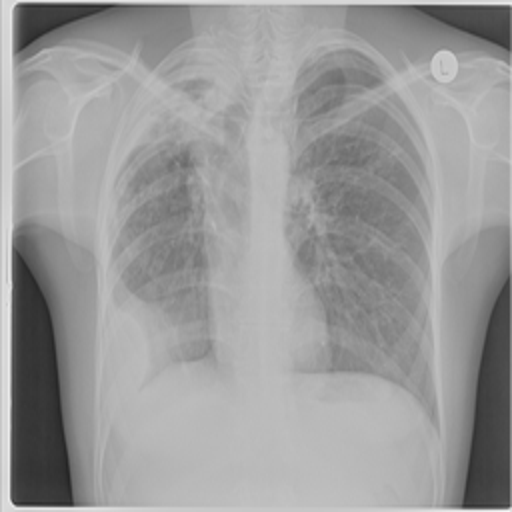TB: (119, 73, 220, 230), (101, 286, 166, 392)
